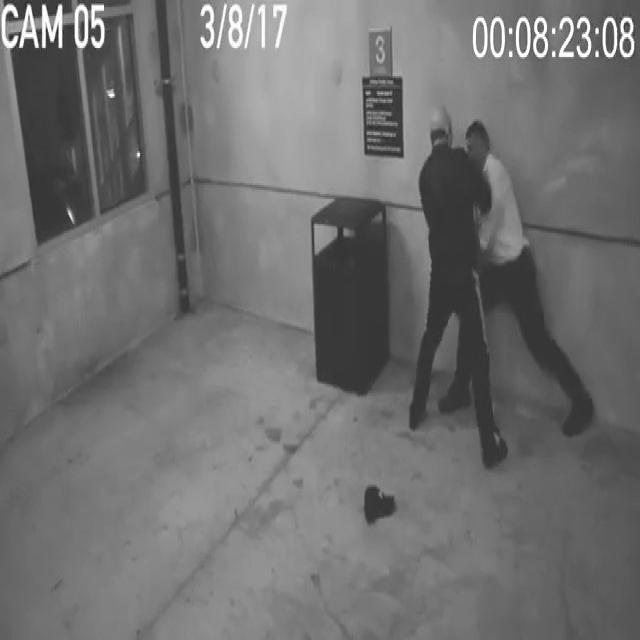fight: (418, 91, 536, 472)
